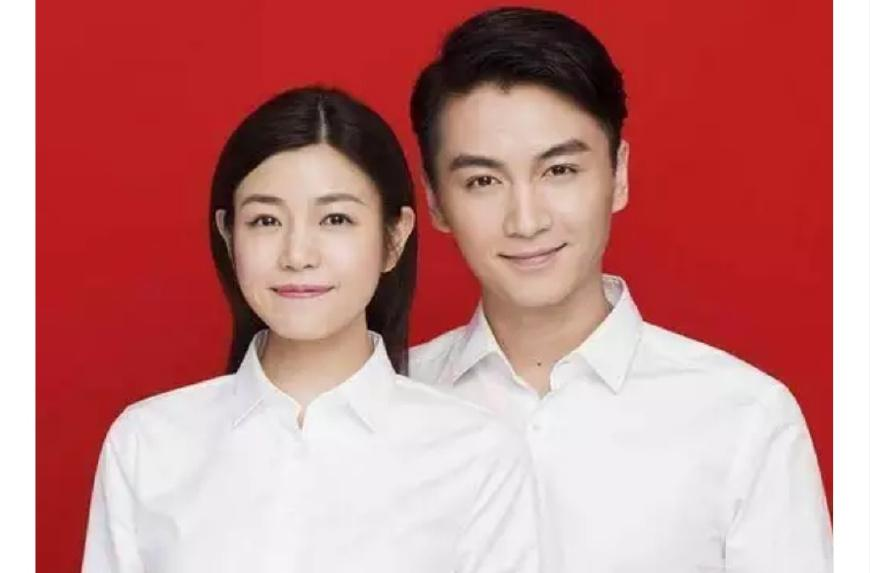unmask: (425, 87, 624, 309), (230, 148, 394, 345)
